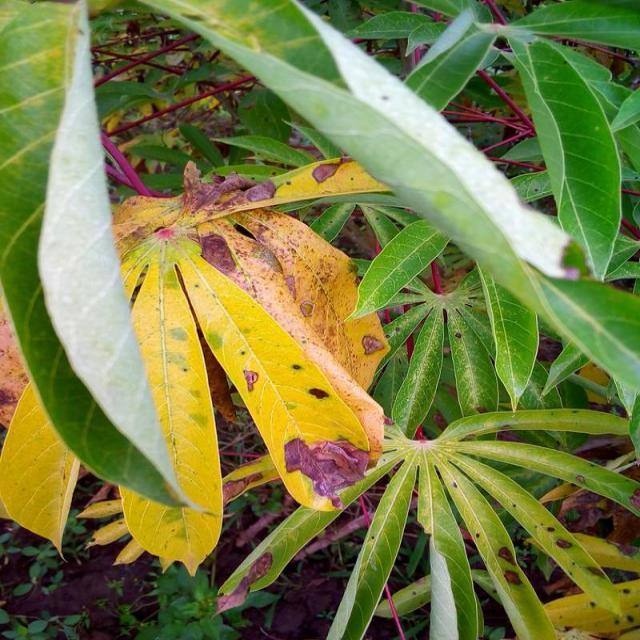cassava leaf: (2, 0, 638, 633), (2, 0, 195, 514)
